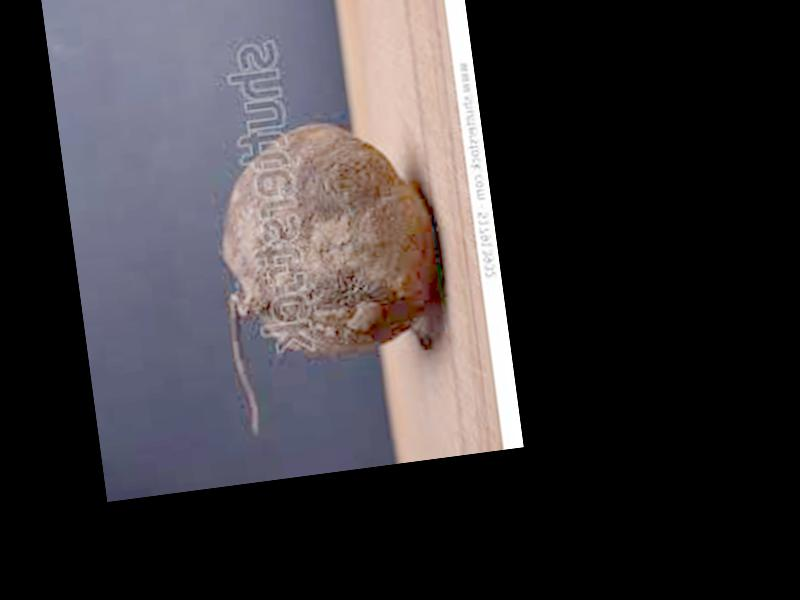Beet: (204, 111, 456, 440)
